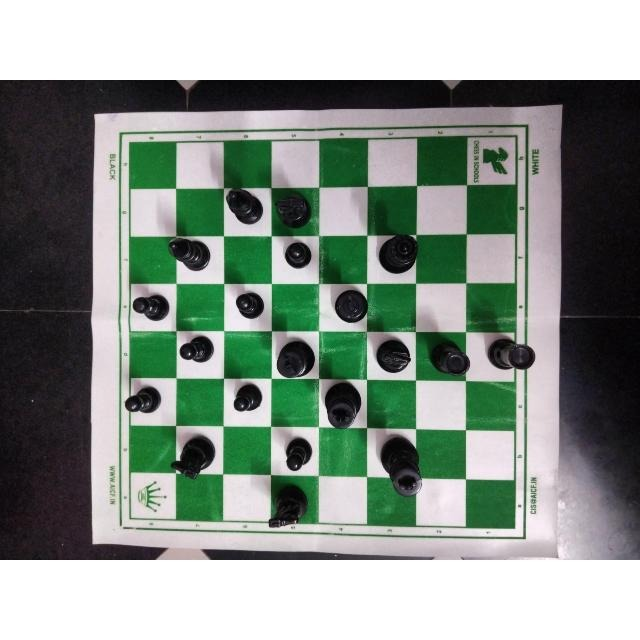black-bishop: (163, 234, 215, 273), (219, 184, 265, 224)
black-king: (376, 432, 424, 500), (322, 381, 362, 433), (272, 336, 319, 379), (331, 286, 371, 326)
black-knight: (167, 432, 223, 483), (260, 484, 310, 532), (369, 334, 415, 378), (270, 185, 314, 230)
black-pawn: (277, 433, 318, 477), (121, 383, 167, 417), (130, 290, 172, 325), (178, 332, 218, 368), (229, 380, 267, 415), (233, 288, 269, 324), (281, 237, 318, 270)
black-queen: (375, 227, 423, 279)
black-rook: (487, 336, 539, 376), (427, 340, 470, 380)
